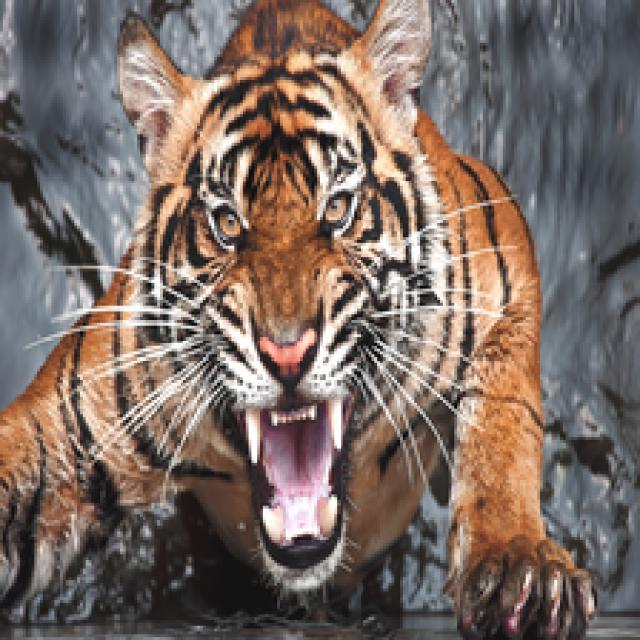tiger: (2, 0, 580, 640)
